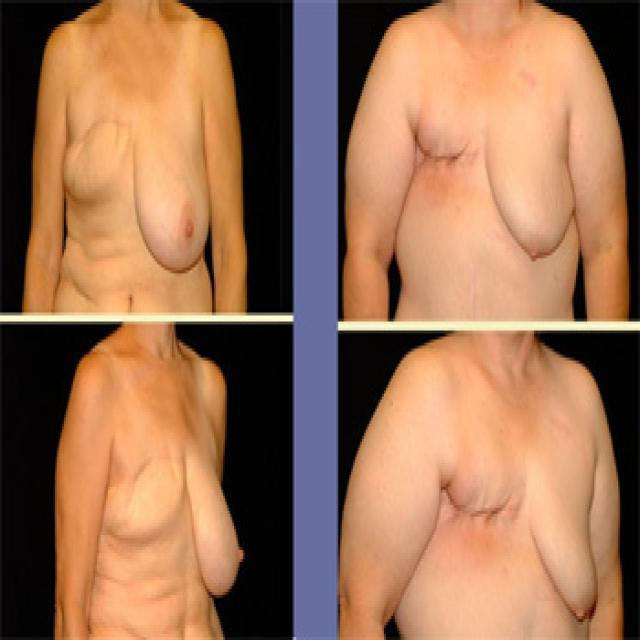Seno herido: (98, 427, 186, 568), (437, 436, 528, 564), (59, 79, 133, 215), (405, 110, 485, 210)
Seno ileso: (134, 78, 212, 286), (486, 110, 577, 274), (529, 435, 601, 634), (188, 427, 247, 609)
